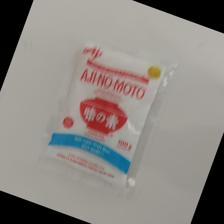Ajinomoto: (38, 36, 167, 192)
